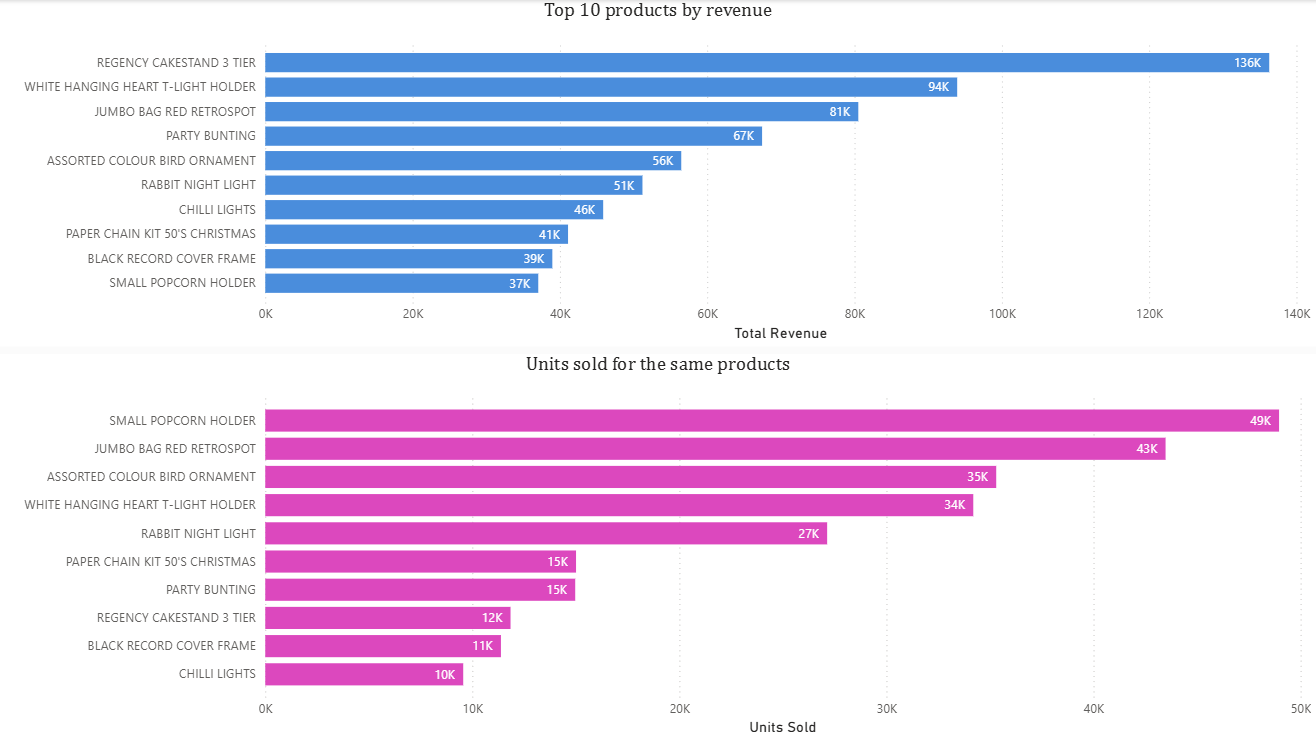

This screenshot's page, from the dashboard's own definition file:
{"tool":"powerbi","page":{"name":"Page 2","canvas":[1280,720],"ordinal":1},"visuals":[{"type":"clusteredBarChart","title":"Top 10 products by revenue","fields":{"Category":["TOP10_product.Description"],"Y":["Sum(TOP10_product.TotalRevenue)"]},"box":[0,0,1280,336.7],"z":0},{"type":"clusteredBarChart","title":"Units sold for the same products","fields":{"Category":["TOP10_product.Description"],"Y":["Sum(TOP10_product.UnitsSold)"]},"box":[0,344.7,1280,375.7],"z":1000}]}

Visuals, with their boxes in screenshot pixels (x1, y1, x2, y2), scaled from the page's 1280x720 canvas onto the 1316x737 screenshot:
"Top 10 products by revenue" clusteredBarChart: box(0, 0, 1315, 345)
"Units sold for the same products" clusteredBarChart: box(0, 353, 1315, 736)
